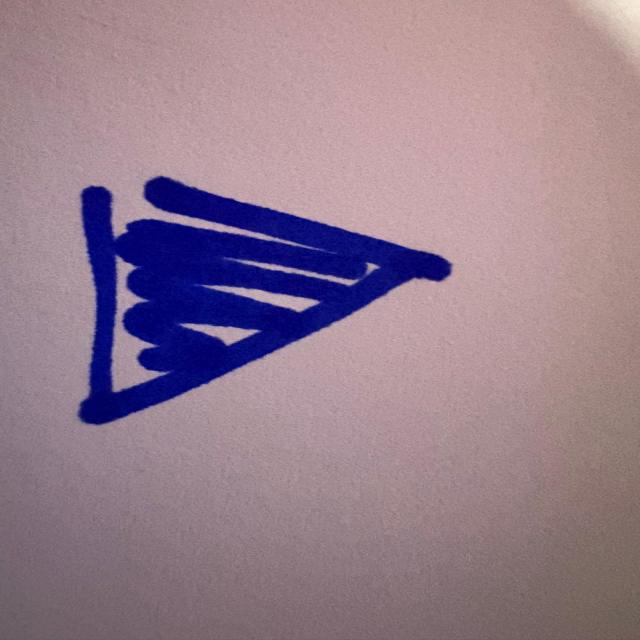Triangle: (72, 171, 457, 437)
